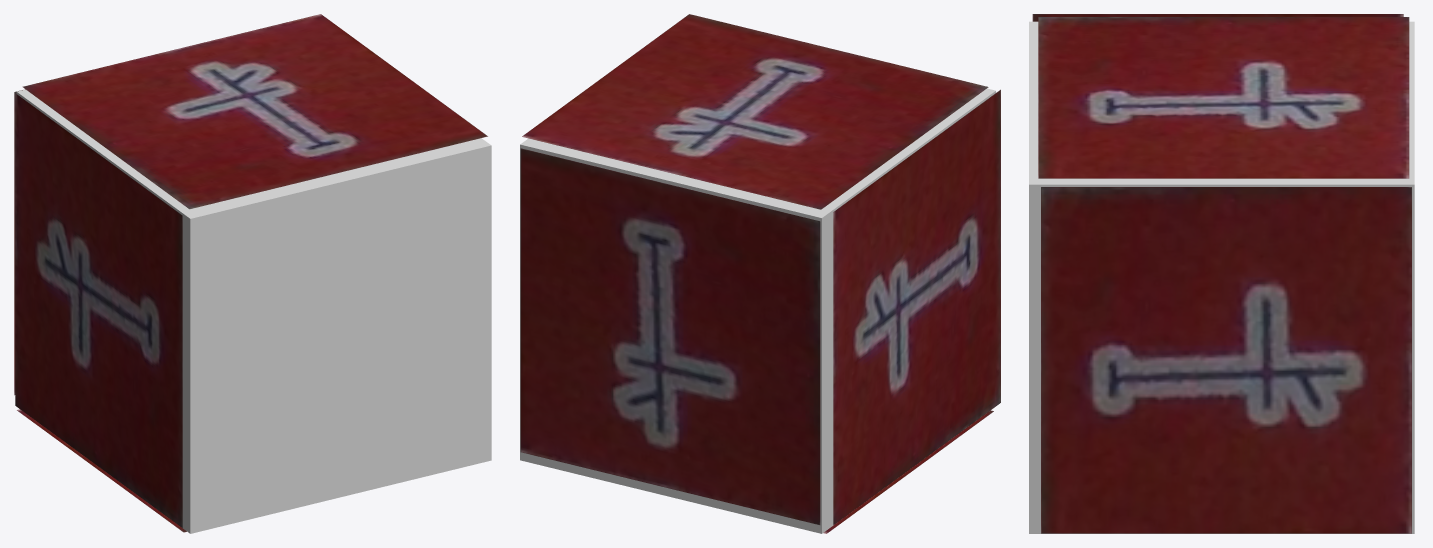
3 views of the same model, side by side, from view 1: azimuth 30°, elevation 25°; view 2: azimuth 150°, elevation 25°; view 3: azimuth 270°, elevation 25° (orthographic). The views are drawn at different scales.
Visible parts, largest first — view 1: Link28, R1.002, R1.004, R1.005, R1.001; view 2: R1.001, R1.002, R1.004, Link28, R1.005; view 3: R1.003, R1.004, Link28, R1.002.
Boxes of the visible parts, x1=… form: Link28: x1=16, y1=89, x2=491, y2=533; R1.002: x1=15, y1=93, x2=182, y2=527; R1.004: x1=22, y1=14, x2=487, y2=209; R1.005: x1=17, y1=409, x2=186, y2=532; R1.001: x1=14, y1=89, x2=25, y2=395; R1.001: x1=520, y1=148, x2=820, y2=524; R1.002: x1=833, y1=89, x2=1000, y2=524; R1.004: x1=522, y1=14, x2=988, y2=209; Link28: x1=520, y1=88, x2=995, y2=533; R1.005: x1=823, y1=410, x2=993, y2=533; R1.003: x1=1041, y1=187, x2=1411, y2=533; R1.004: x1=1038, y1=17, x2=1409, y2=178; Link28: x1=1029, y1=21, x2=1414, y2=533; R1.002: x1=1032, y1=14, x2=1403, y2=21.
Bounding box in the file's own units: 0.3585 × 0.3539 × 0.3577.
1 material, 1 textured.
